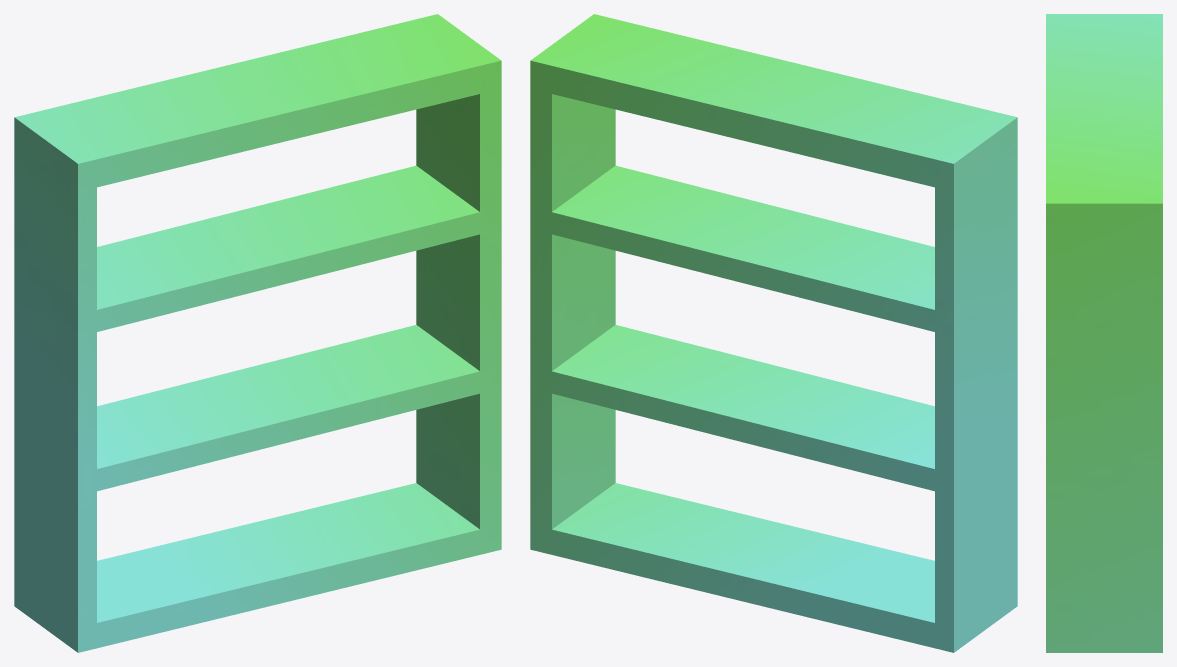
The model's file is POL0110027.fbx.
The picture shows the model from 3 angles, left to right: view 1: azimuth 30°, elevation 25°; view 2: azimuth 150°, elevation 25°; view 3: azimuth 270°, elevation 25°; orthographic projection. The views are drawn at different scales.
Parts seen in each view (by area): view 1: smPOL0110027; view 2: smPOL0110027; view 3: smPOL0110027.
Boxes of the visible parts, x1,y1,x2,y2 form: smPOL0110027: (14,14,501,652); smPOL0110027: (530,14,1017,652); smPOL0110027: (1046,14,1162,652).
Size of the model in its own units: 186 by 205 by 48.43.
Materials: 1 (1 with a texture image).
